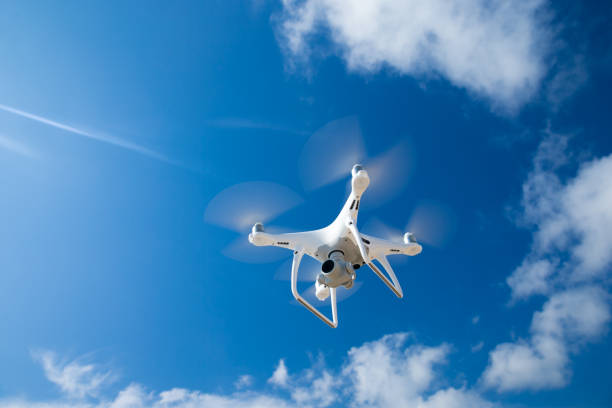Drone: (203, 112, 443, 337)
